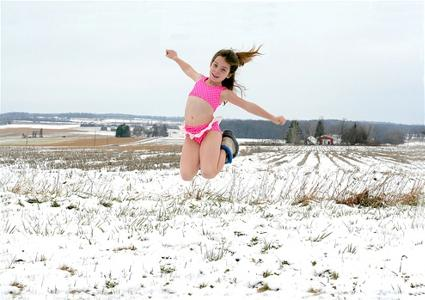person: (166, 49, 288, 182)
